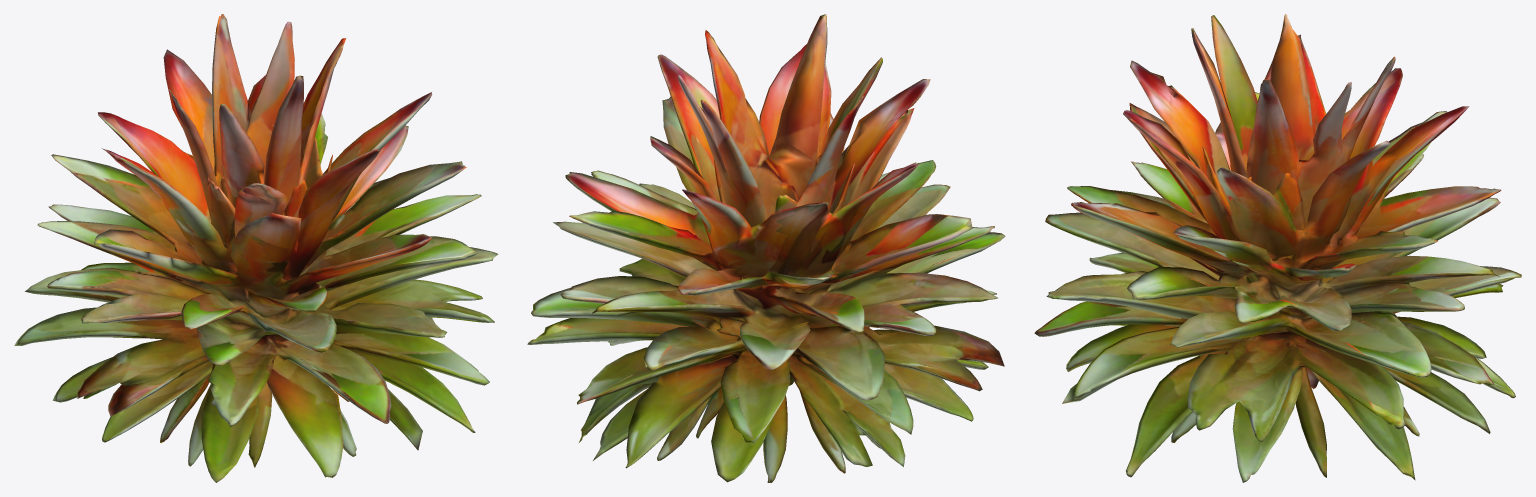
The model's file is bromeliads.glb.
The picture shows the model from 3 angles, left to right: view 1: azimuth 30°, elevation 25°; view 2: azimuth 150°, elevation 25°; view 3: azimuth 270°, elevation 25°; orthographic projection.
Parts seen in each view (by area): view 1: Object_2; view 2: Object_2; view 3: Object_2.
Part boxes in pixels (x1,y1,x2,y2): Object_2: [14, 14, 498, 482]; Object_2: [527, 14, 1005, 482]; Object_2: [1034, 14, 1521, 482].
Bounding box in the file's own units: 0.2282 × 0.2091 × 0.2299.
Materials: 1 (1 with a texture image).
